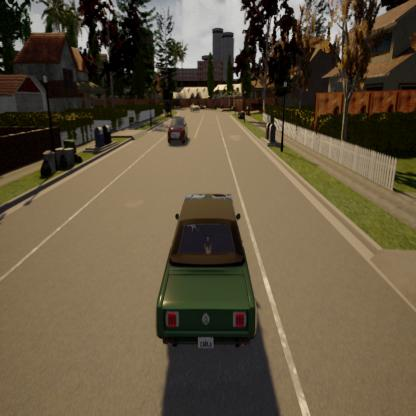Cars: (156, 194, 256, 353), (168, 117, 186, 144), (190, 101, 200, 112)
